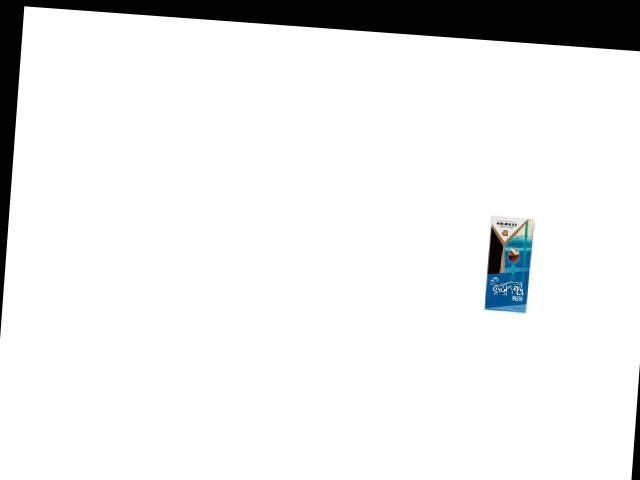chocolate: (481, 212, 535, 314)
